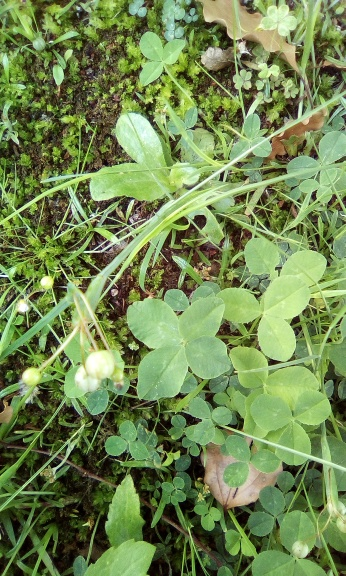4leaf: (126, 296, 232, 400)
